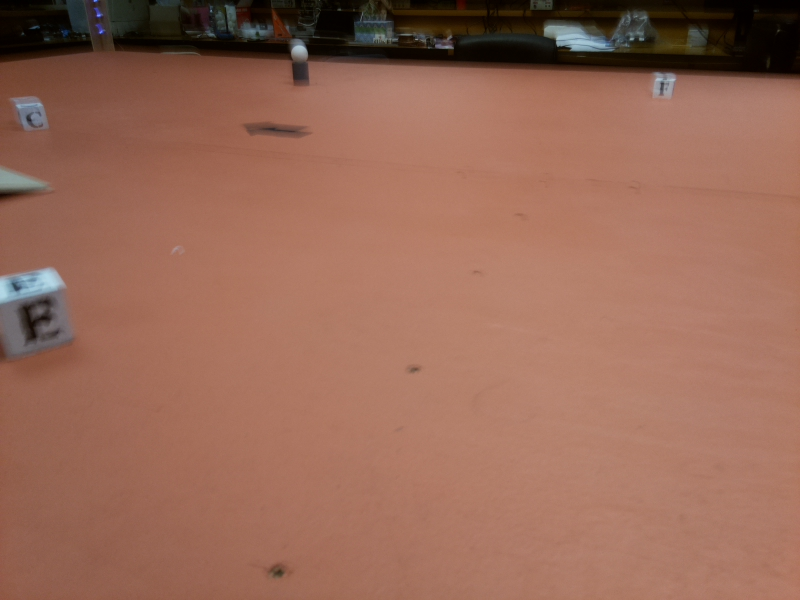blockC: (11, 95, 55, 132)
blockE: (1, 270, 80, 358)
blockF: (652, 73, 678, 99)
obstacle: (288, 42, 313, 88)
slope: (1, 164, 57, 201)
start: (245, 116, 313, 141)
